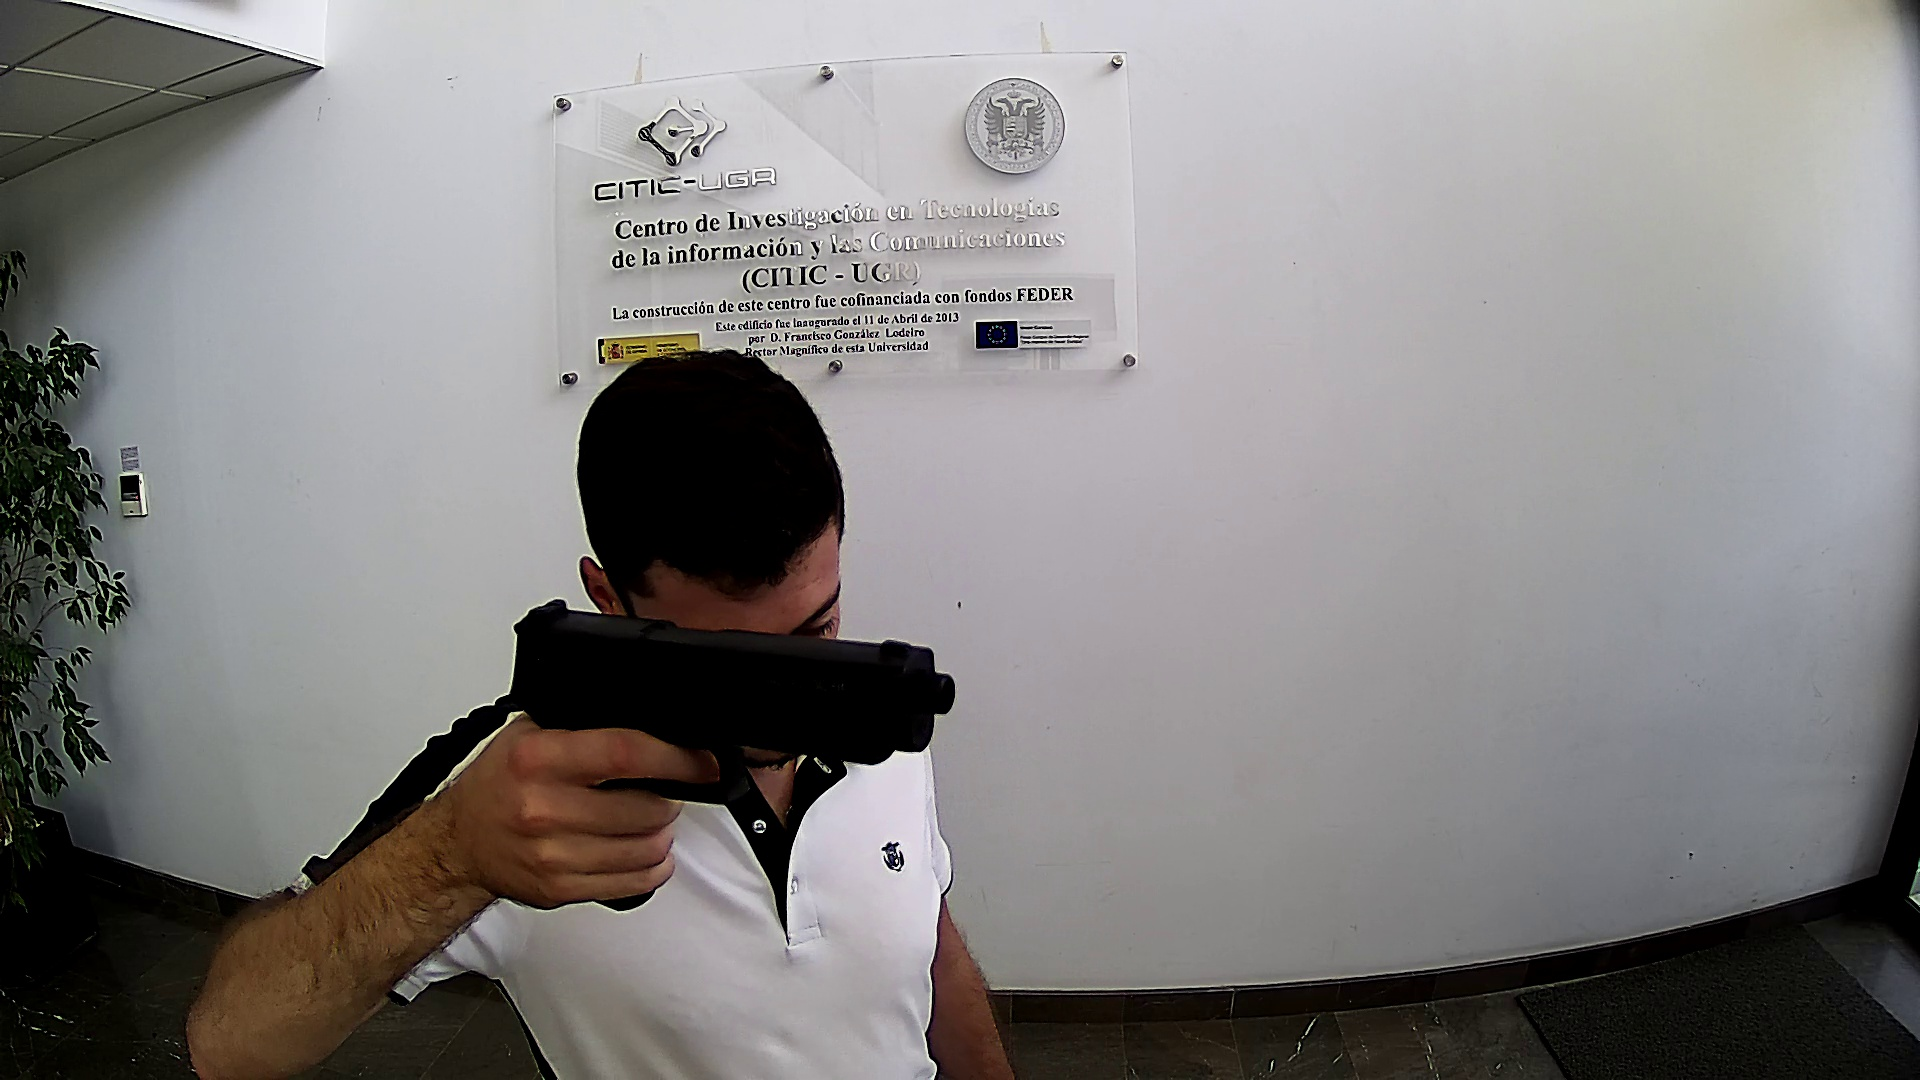pistol: (504, 597, 959, 913)
